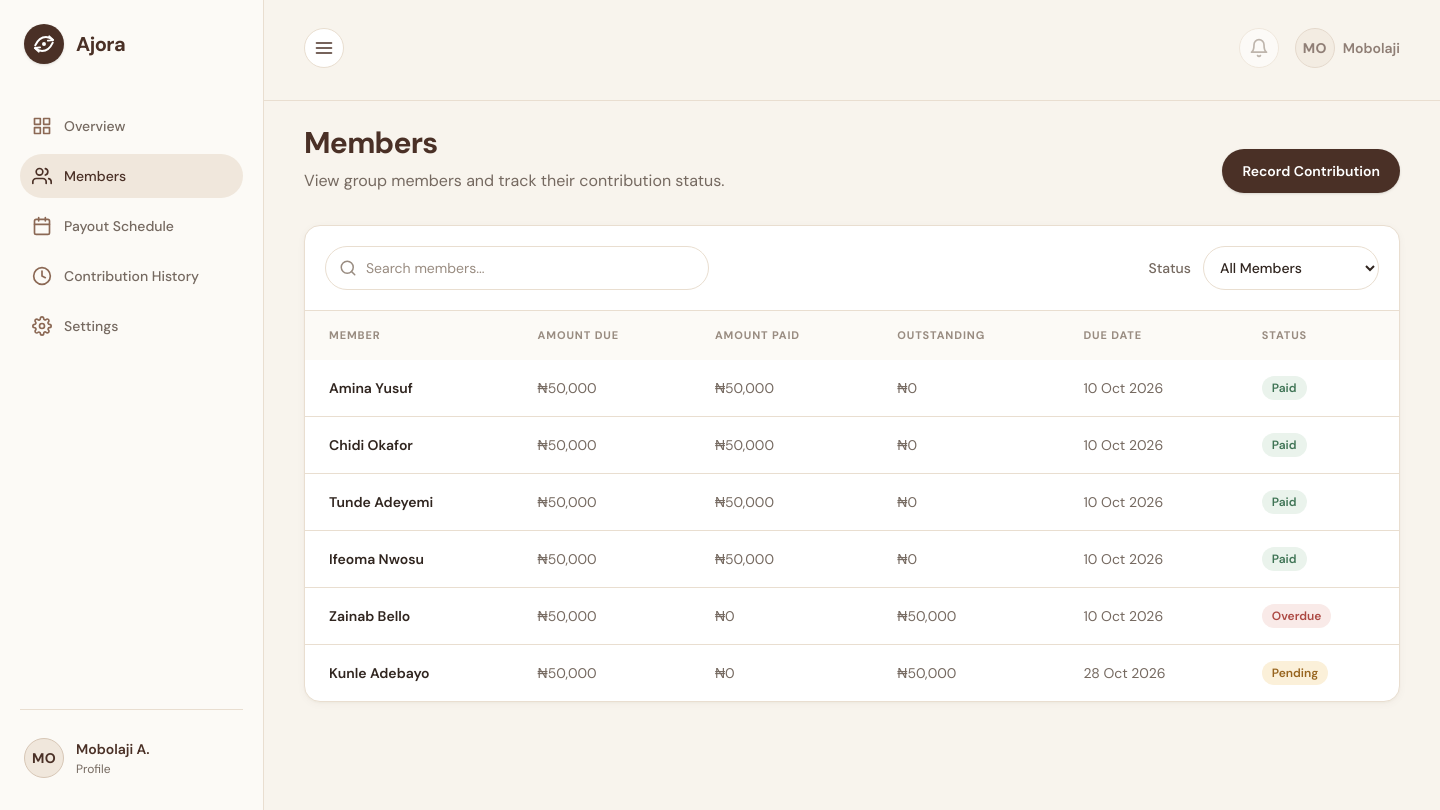
Test: RecordContributionDialog keyboard accessibility › wraps Tab and Shift+Tab within the dialog and restores focus after Escape
The image size is (1440, 810).
Click the button "Record Contribution" at {"x": 1311, "y": 171}, box [1222,149,1400,193]
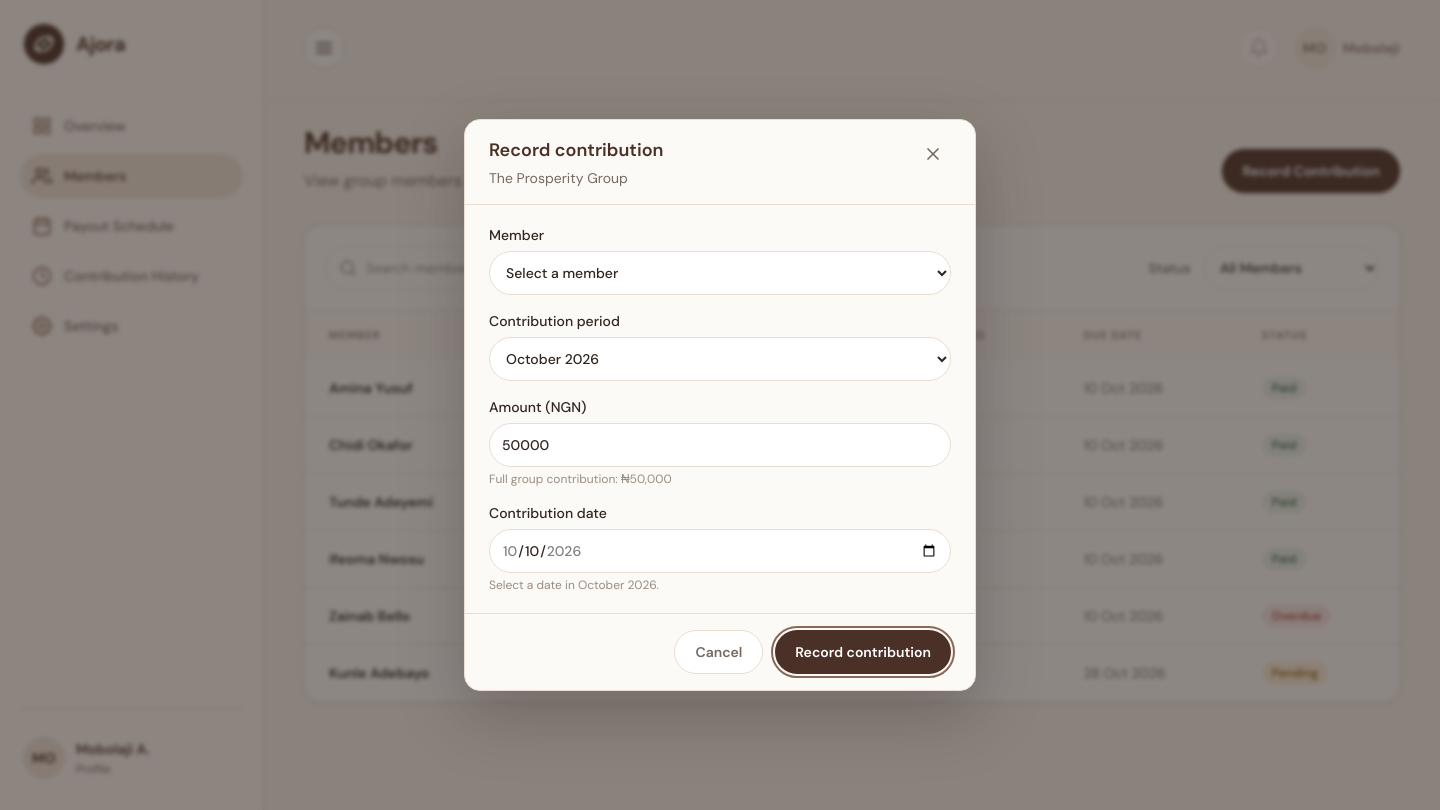
Press Tab
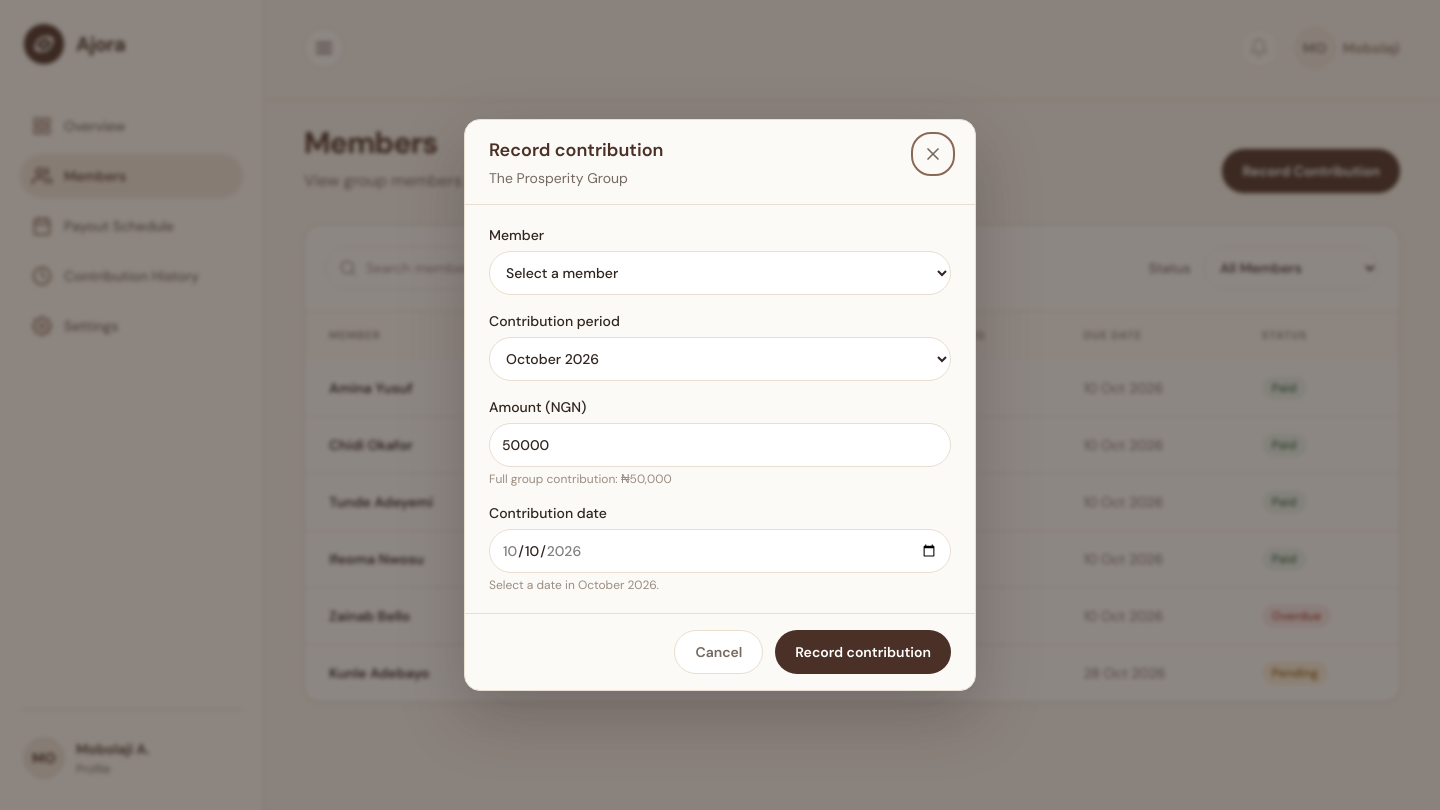
Press Shift+Tab
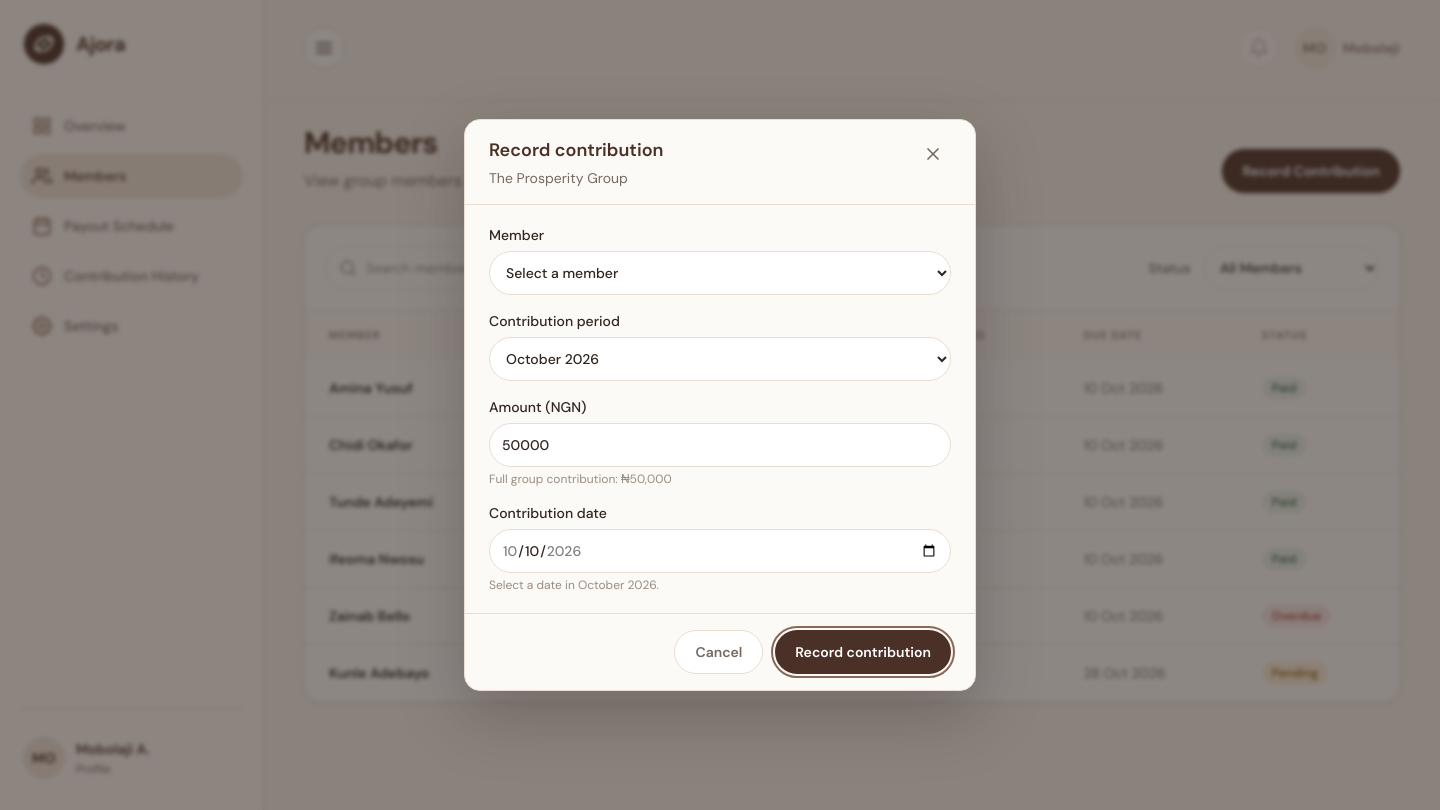
Press Escape
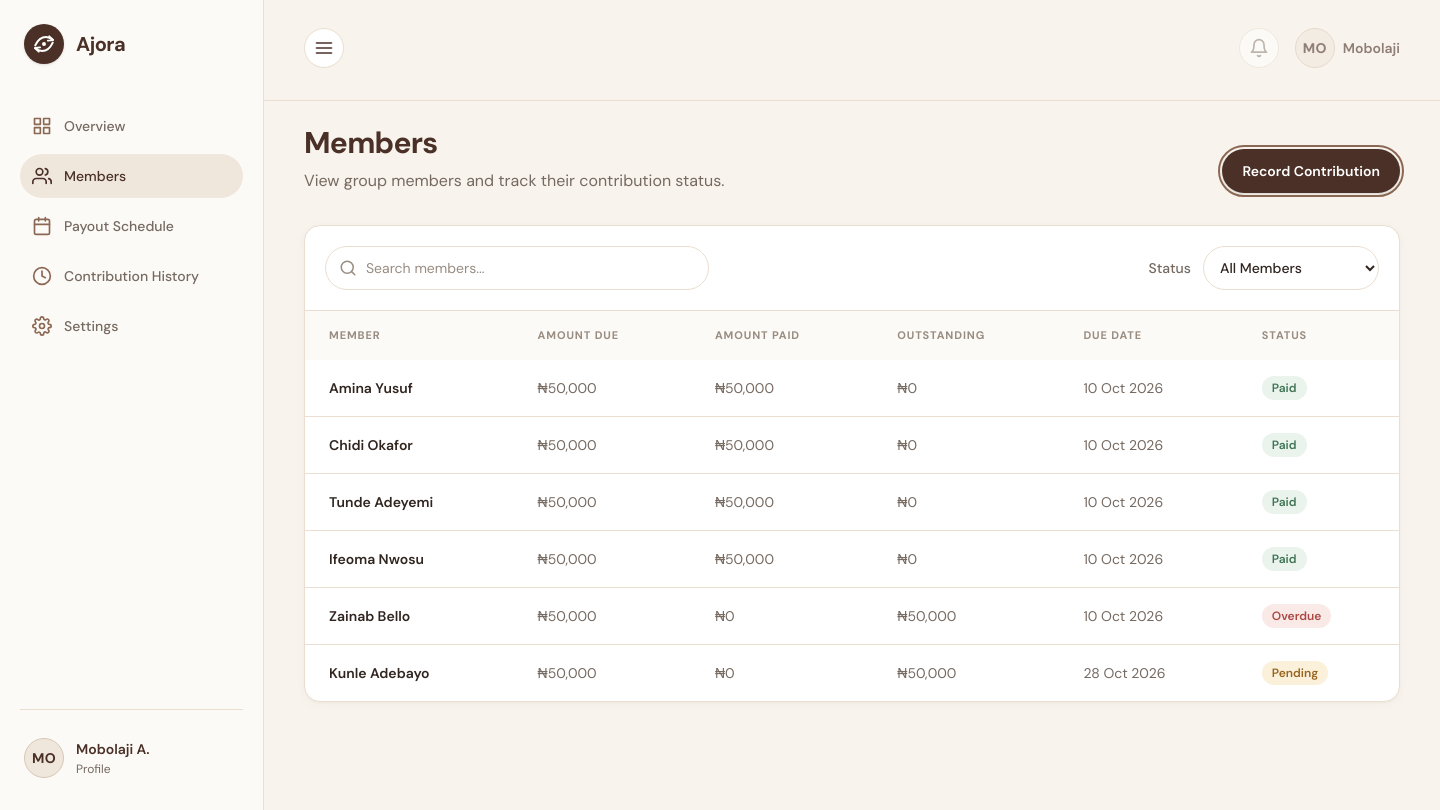
Result: the dialog is gone
